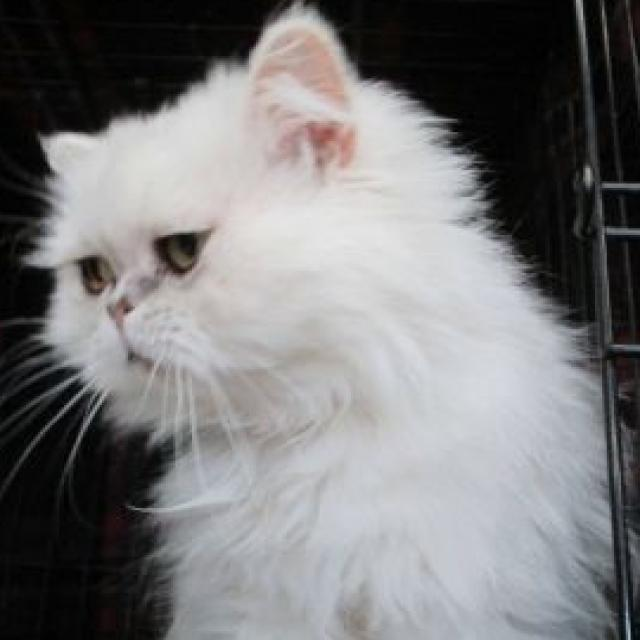Persian: (17, 2, 635, 640)
